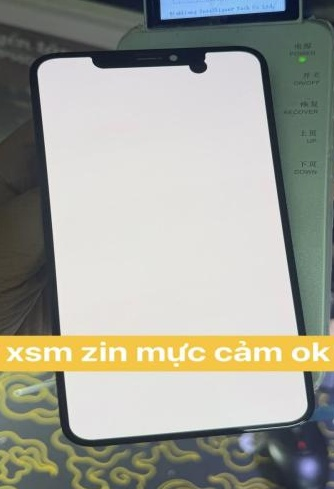screen_defect: (190, 60, 208, 74)
